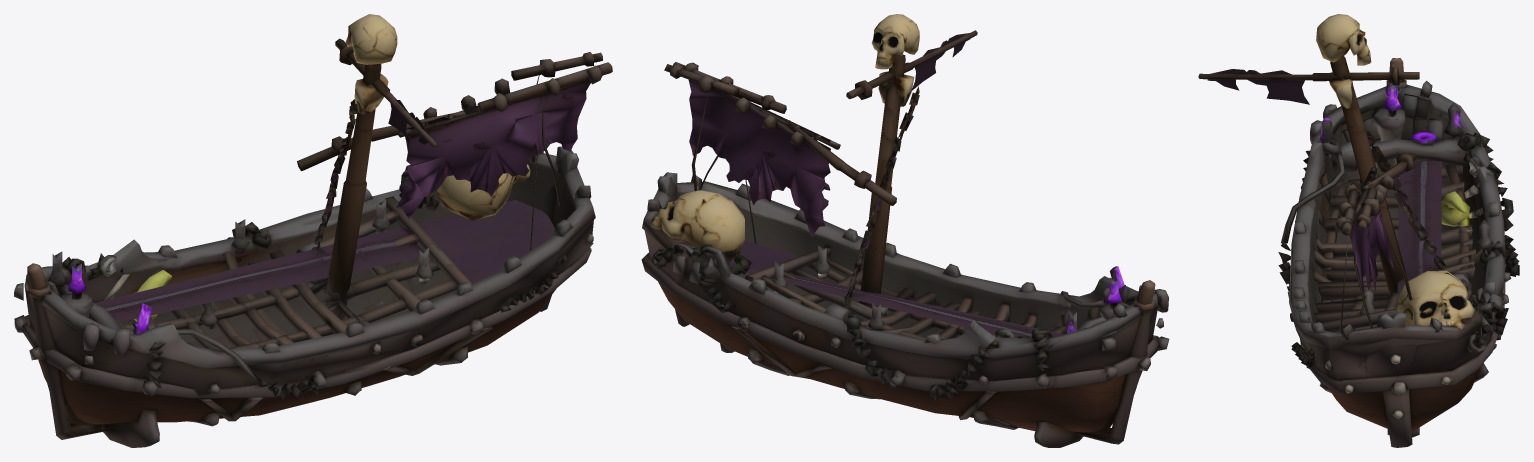
The picture shows the model from 3 angles, left to right: view 1: azimuth 30°, elevation 25°; view 2: azimuth 150°, elevation 25°; view 3: azimuth 270°, elevation 25°; orthographic projection. The views are drawn at different scales.
Parts seen in each view (by area): view 1: tripo_node_8d32800b-85f4-4378-b31a-6d014897bbf2; view 2: tripo_node_8d32800b-85f4-4378-b31a-6d014897bbf2; view 3: tripo_node_8d32800b-85f4-4378-b31a-6d014897bbf2.
Part boxes in pixels (bbox=[...]): tripo_node_8d32800b-85f4-4378-b31a-6d014897bbf2: bbox=[14, 14, 612, 447]; tripo_node_8d32800b-85f4-4378-b31a-6d014897bbf2: bbox=[641, 14, 1169, 447]; tripo_node_8d32800b-85f4-4378-b31a-6d014897bbf2: bbox=[1198, 14, 1519, 447].
Size of the model in its own units: 1.19 by 0.8 by 0.6367.
1 material, 1 textured.
